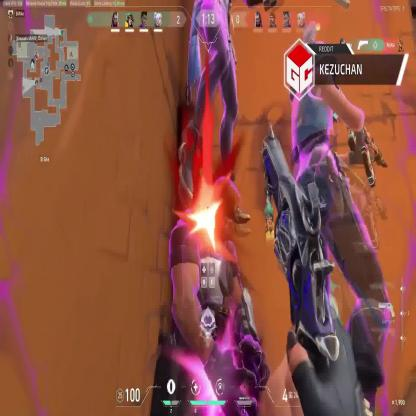enemy: (286, 36, 389, 416), (177, 0, 251, 229)
enemy_head: (300, 35, 334, 86)
